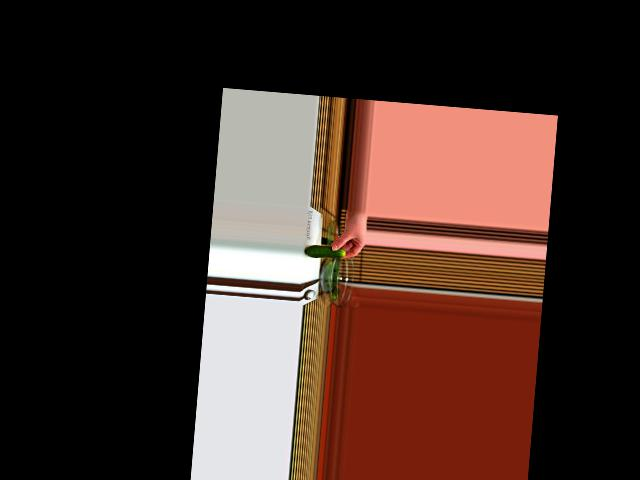cucumber: (304, 244, 345, 260)
